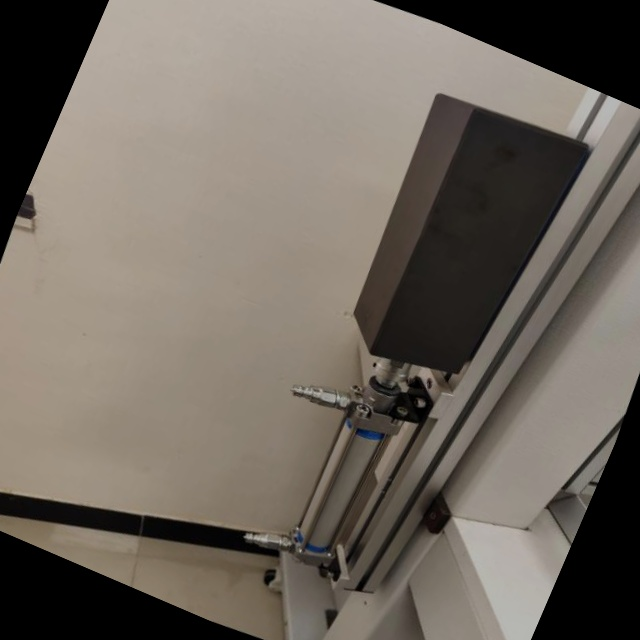load: (197, 56, 640, 638)
